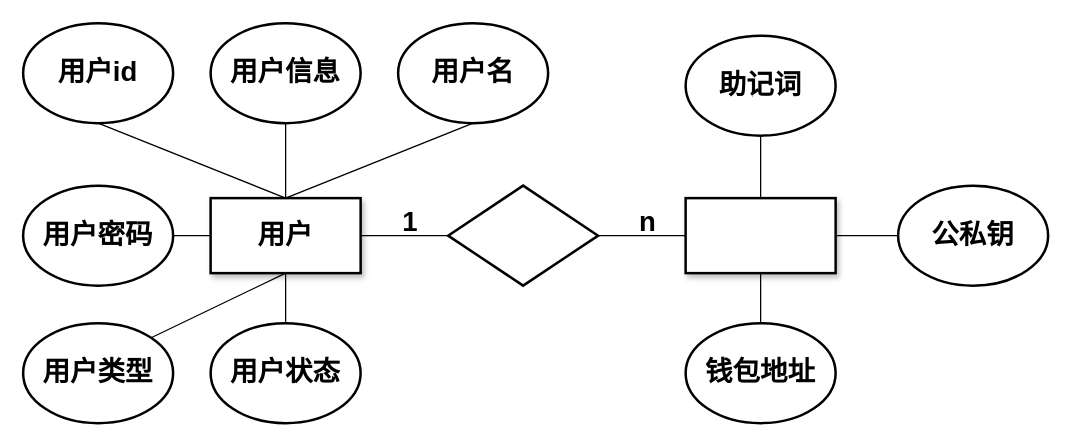
This 1070x445 diagram has some shape labels left out. Each missing label, with the centre of its shape:
包含: point (522, 235)
用户钱包: point (761, 236)
